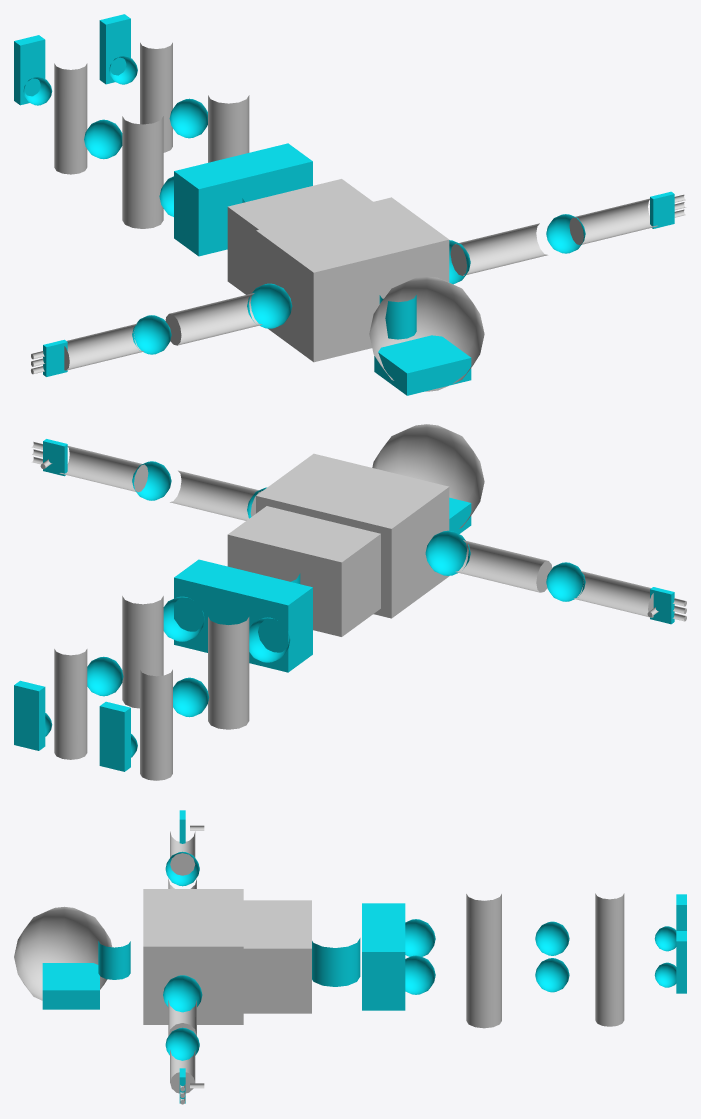
Rendered from ROBA_static.glb.
3 views of the same model, one above another, from view 1: azimuth 30°, elevation 25°; view 2: azimuth 150°, elevation 25°; view 3: azimuth 270°, elevation 25° (orthographic). The views are drawn at different scales.
Parts seen in each view (by area): view 1: ROBA_Robot_Static_Mesh; view 2: ROBA_Robot_Static_Mesh; view 3: ROBA_Robot_Static_Mesh.
Boxes of the visible parts, <box> form: ROBA_Robot_Static_Mesh: <box>14,14,685,395</box>; ROBA_Robot_Static_Mesh: <box>14,424,686,780</box>; ROBA_Robot_Static_Mesh: <box>14,810,686,1104</box>.
Size of the model in its own units: 1.83 by 0.28 by 1.87.
